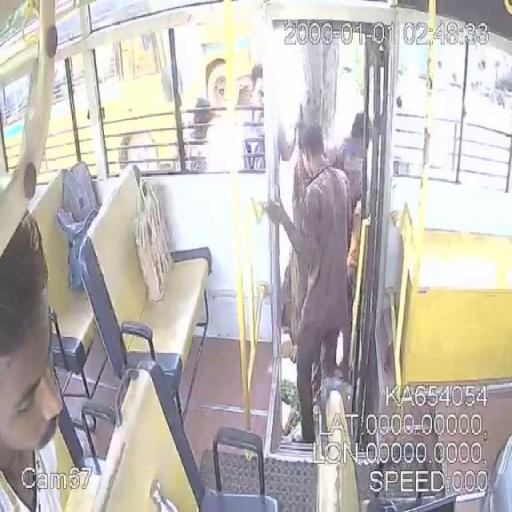persona: (258, 122, 354, 444), (0, 210, 64, 510), (333, 111, 373, 271)
